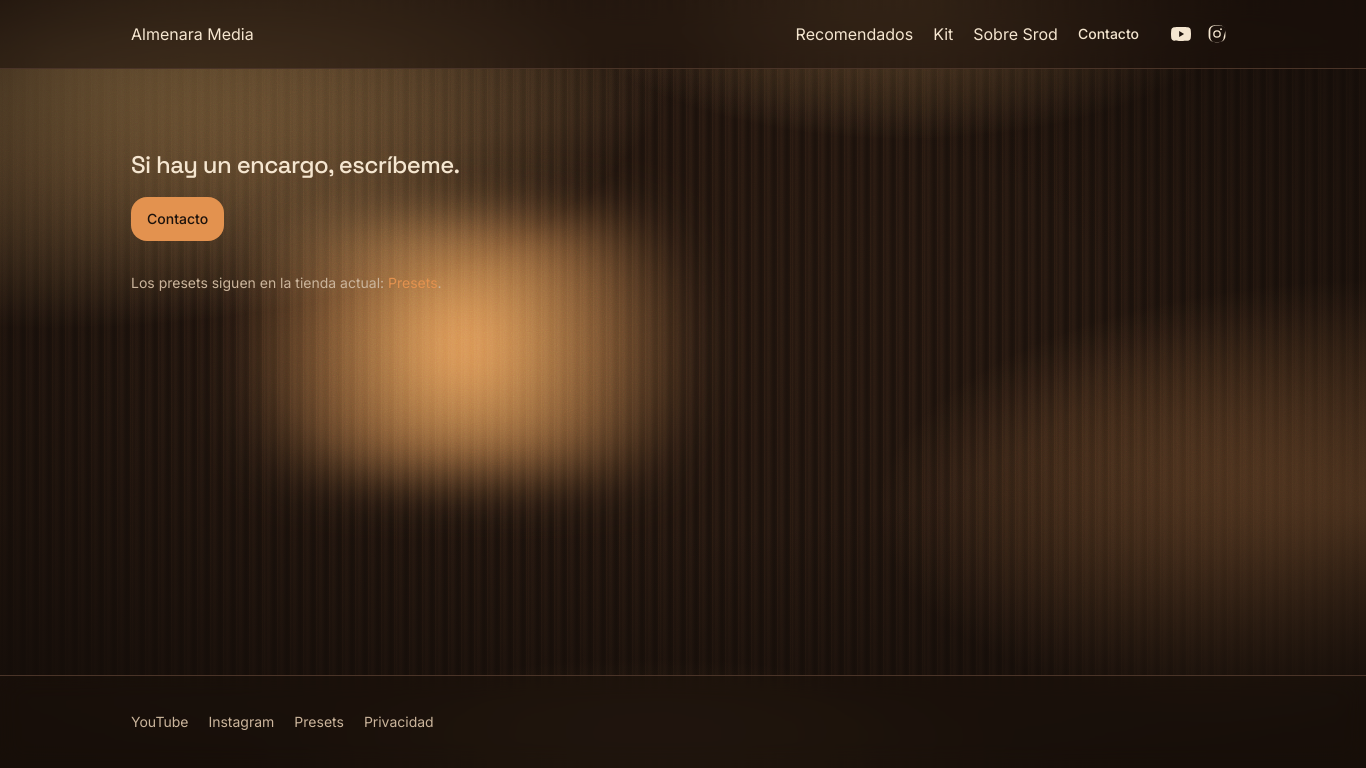
PublicChrome › el CTA de Home abre el modal y no navega
Step 1. Click the button "Contacto" below "Si hay un encargo, escríbeme." → (178, 219), box [131, 197, 224, 241]
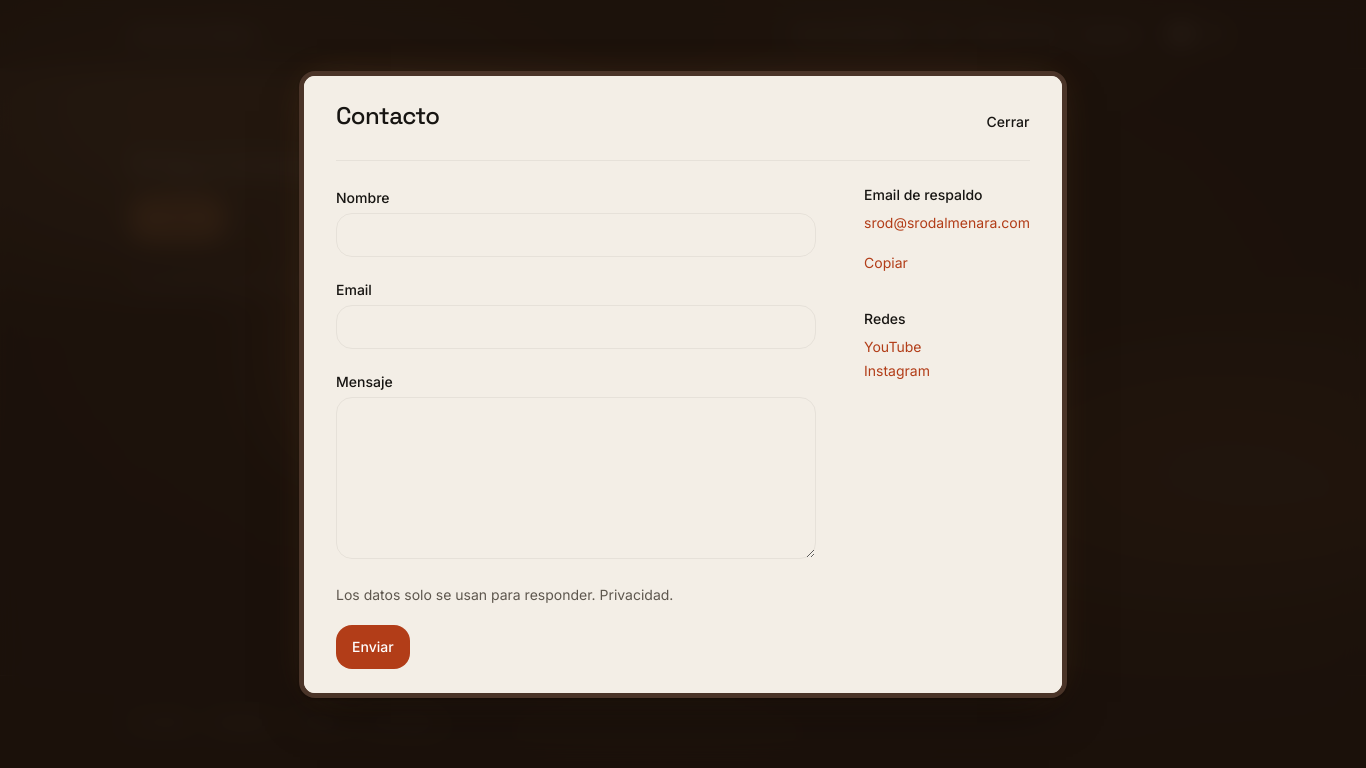
Expected: the dialog "Contacto" is shown, [304, 76, 1062, 692]
